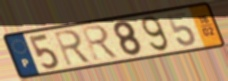5: (26, 32, 63, 71), (165, 11, 198, 48)
8: (113, 19, 143, 58)
9: (139, 15, 171, 53)
R: (79, 24, 123, 63), (52, 28, 93, 68)
